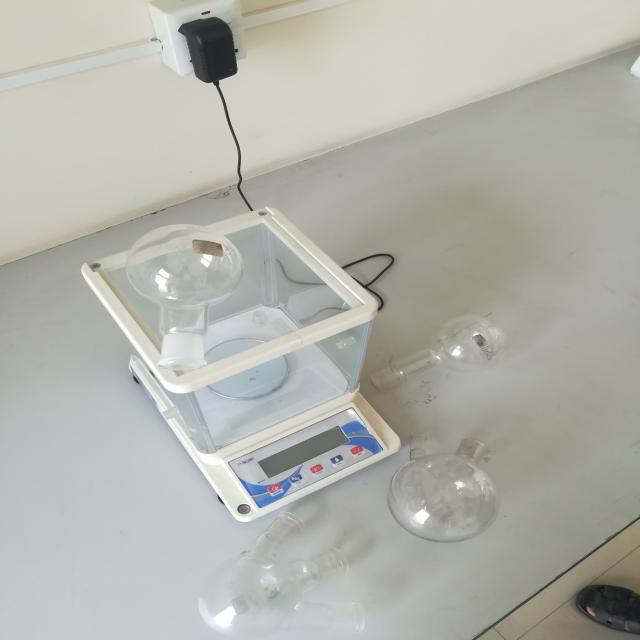Round_Bottom_Flask_Borosilicate_Glass_1_Neck: (119, 202, 278, 392), (334, 292, 547, 406)
Round_Bottom_Flask_Borosilicate_Glass_2_Neck: (377, 402, 545, 554)
Round_Bottom_Flask_Borosilicate_Glass_3_Neck: (170, 492, 378, 640)
